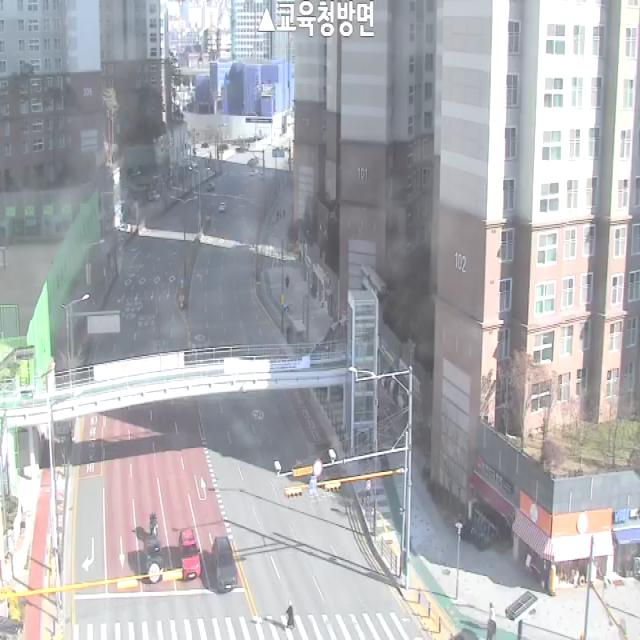Car: (212, 536, 238, 593), (179, 528, 201, 580), (145, 537, 164, 581), (206, 181, 216, 192), (219, 202, 226, 213)
